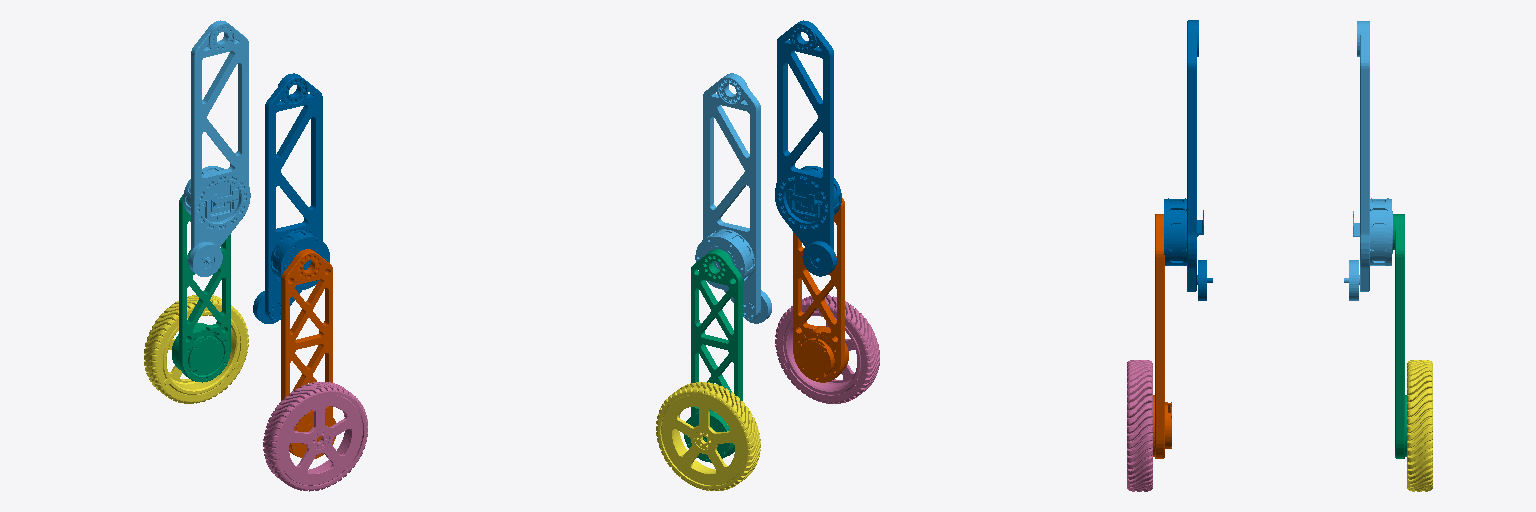
URDF robot description (000_WBR_urdf):
<?xml version="1.0" encoding="utf-8"?>
<!-- This URDF was automatically created by SolidWorks to URDF Exporter! Originally created by [author] ([email redacted]) 
     Commit Version: 1.6.0-4-g7f85cfe  Build Version: 1.6.7995.38578
     For more information, please see http://wiki.ros.org/sw_urdf_exporter -->
<robot
  name="000_WBR_urdf">
  <link
    name="base_link">
    <inertial>
      <origin
        xyz="0 0 0"
        rpy="0 0 0" />
      <mass
        value="3.6" />
      <inertia
        ixx="0.017282"
        ixy="1.567E-05"
        ixz="-0.00036424"
        iyy="0.013925"
        iyz="-1.76E-05"
        izz="0.018901" />
    </inertial>
    <visual>
      <origin
        xyz="0 0 0"
        rpy="0 0 0" />
      <geometry>
        <mesh
          filename="./meshes/base_link.STL" />
      </geometry>

    </visual>
    <collision>
      <origin
        xyz="0 0 0"
        rpy="0 0 0" />
      <geometry>
        <mesh
          filename="./meshes/base_link.STL" />
      </geometry>
    </collision>
  </link>
  <link
    name="TighL">
    <inertial>
      <origin
        xyz="0 0 0"
        rpy="0 0 0" />
      <mass
        value="0.877" />
      <inertia
        ixx="0.052137"
        ixy="0.00080537"
        ixz="-1.2154E-05"
        iyy="0.00079671"
        iyz="-0.0026655"
        izz="0.052395" />
    </inertial>
    <visual>
      <origin
        xyz="0 0 0"
        rpy="0 0 0" />
      <geometry>
        <mesh
          filename="./meshes/TighL.STL" />
      </geometry>
    </visual>
    <collision>
      <origin
        xyz="0 0 0"
        rpy="0 0 0" />
      <geometry>
        <mesh
          filename="./meshes/TighL.STL" />
      </geometry>
    </collision>
  </link>
  <joint
    name="HipL"
    type="revolute">
    <origin
      xyz="0 0.10326 -0.003"
      rpy="-1.5708 0 0" />
    <parent
      link="base_link" />
    <child
      link="TighL" />
    <axis
      xyz="0 0 1" />
    <limit
      lower="0"
      upper="3.14"
      effort="100"
      velocity="100" />
  </joint>
  <link
    name="ShankL">
    <inertial>
      <origin
        xyz="0 0 0"
        rpy="0 0 0" />
      <mass
        value="0.592" />
      <inertia
        ixx="0.028833"
        ixy="7.361E-06"
        ixz="2.98E-07"
        iyy="0.00033282"
        iyz="-0.00156"
        izz="0.028939" />
    </inertial>
    <visual>
      <origin
        xyz="0 0 0"
        rpy="0 0 0" />
      <geometry>
        <mesh
          filename="./meshes/ShankL.STL" />
      </geometry>
    </visual>
    <collision>
      <origin
        xyz="0 0 0"
        rpy="0 0 0" />
      <geometry>
        <mesh
          filename="./meshes/ShankL.STL" />
      </geometry>
    </collision>
  </link>
  <joint
    name="KneeL"
    type="revolute">
    <origin
      xyz="0 0.26 0.04376"
      rpy="0 0 0" />
    <parent
      link="TighL" />
    <child
      link="ShankL" />
    <axis
      xyz="0 0 1" />
    <limit
      lower="-3.14"
      upper="0"
      effort="100"
      velocity="100" />
  </joint>
  <link
    name="WheelL">
    <inertial>
      <origin
        xyz="0 0 0"
        rpy="0 0 0" />
      <mass
        value="0.543" />
      <inertia
        ixx="0.0011434"
        ixy="0"
        ixz="0"
        iyy="0.0011434"
        iyz="1E-09"
        izz="0.0021259" />
    </inertial>
    <visual>
      <origin
        xyz="0 0 0"
        rpy="0 0 0" />
      <geometry>
        <mesh
          filename="./meshes/WheelL.STL" />
      </geometry>
    </visual>
    <collision>
      <origin
        xyz="0 0 0"
        rpy="0 0 0" />
      <geometry>
        <mesh
          filename="./meshes/WheelL.STL" />
      </geometry>
    </collision>
  </link>
  <joint
    name="HubL"
    type="continuous">
    <origin
      xyz="0 0.26 0.03525"
      rpy="0 0 0" />
    <parent
      link="ShankL" />
    <child
      link="WheelL" />
    <axis
      xyz="0 0 1" />
    <limit
      effort="100"
      velocity="100" />
  </joint>
  <link
    name="TighR">
    <inertial>
      <origin
        xyz="0 0 0"
        rpy="0 0 0" />
      <mass
        value="0.877" />
      <inertia
        ixx="0.052137"
        ixy="-0.00082186"
        ixz="-1.291E-05"
        iyy="0.00079671"
        iyz="0.0026655"
        izz="0.052395" />
    </inertial>
    <visual>
      <origin
        xyz="0 0 0"
        rpy="0 0 0" />
      <geometry>
        <mesh
          filename="./meshes/TighR.STL" />
      </geometry>
    </visual>
    <collision>
      <origin
        xyz="0 0 0"
        rpy="0 0 0" />
      <geometry>
        <mesh
          filename="./meshes/TighR.STL" />
      </geometry>
    </collision>
  </link>
  <joint
    name="HipR"
    type="revolute">
    <origin
      xyz="0 -0.09926 -0.003"
      rpy="1.5708 0 0" />
    <parent
      link="base_link" />
    <child
      link="TighR" />
    <axis
      xyz="0 0 1" />
    <limit
      lower="-3.14"
      upper="0"
      effort="0"
      velocity="0" />
  </joint>
  <link
    name="ShankR">
    <inertial>
      <origin
        xyz="0 0 0"
        rpy="0 0 0" />
      <mass
        value="0.592" />
      <inertia
        ixx="0.028833"
        ixy="7.361E-06"
        ixz="-2.98E-07"
        iyy="0.00033282"
        iyz="0.00156"
        izz="0.028939" />
    </inertial>
    <visual>
      <origin
        xyz="0 0 0"
        rpy="0 0 0" />
      <geometry>
        <mesh
          filename="./meshes/ShankR.STL" />
      </geometry>
    </visual>
    <collision>
      <origin
        xyz="0 0 0"
        rpy="0 0 0" />
      <geometry>
        <mesh
          filename="./meshes/ShankR.STL" />
      </geometry>
    </collision>
  </link>
  <joint
    name="KneeR"
    type="revolute">
    <origin
      xyz="0 -0.26 0.04376"
      rpy="0 0 0" />
    <parent
      link="TighR" />
    <child
      link="ShankR" />
    <axis
      xyz="0 0 1" />
    <limit
      lower="0"
      upper="3.14"
      effort="0"
      velocity="0" />
  </joint>
  <link
    name="WheelR">
    <inertial>
      <origin
        xyz="0 0 0"
        rpy="0 0 0" />
      <mass
        value="0.543" />
      <inertia
        ixx="0.0011434"
        ixy="0"
        ixz="0"
        iyy="0.0011434"
        iyz="-1E-09"
        izz="0.0021259" />
    </inertial>
    <visual>
      <origin
        xyz="0 0 0"
        rpy="0 0 0" />
      <geometry>
        <mesh
          filename="./meshes/WheelR.STL" />
      </geometry>
    </visual>
    <collision>
      <origin
        xyz="0 0 0"
        rpy="0 0 0" />
      <geometry>
        <mesh
          filename="./meshes/WheelR.STL" />
      </geometry>
    </collision>
  </link>
  <joint
    name="HubR"
    type="continuous">
    <origin
      xyz="0 -0.26 0.03525"
      rpy="0 0 0" />
    <parent
      link="ShankR" />
    <child
      link="WheelR" />
    <axis
      xyz="0 0 1" />
    <limit
      effort="100"
      velocity="100" />
  </joint>
</robot>

--- Render facts (derived) ---
3 views of the same robot in one strip: view 1: azimuth 30°, elevation 25°; view 2: azimuth 150°, elevation 25°; view 3: azimuth 270°, elevation 25° (orthographic).
Model 000_WBR_urdf with 7 links and 6 joints (4 revolute, 2 continuous), rooted at base_link, posed every joint at zero.
Visible links, largest first — view 1: TighL, TighR, WheelR, ShankR, ShankL, WheelL; view 2: TighR, TighL, WheelL, ShankL, ShankR, WheelR; view 3: TighL, TighR, WheelR, WheelL, ShankR, ShankL.
Link boxes in pixels (left/top/right/bottom): TighL: left=183, top=20, right=250, bottom=276; TighR: left=253, top=73, right=329, bottom=323; WheelR: left=263, top=382, right=367, bottom=491; ShankR: left=281, top=249, right=335, bottom=458; ShankL: left=172, top=194, right=230, bottom=382; WheelL: left=144, top=295, right=248, bottom=403; TighR: left=775, top=20, right=841, bottom=276; TighL: left=695, top=73, right=771, bottom=323; WheelL: left=656, top=382, right=760, bottom=490; ShankL: left=684, top=249, right=742, bottom=462; ShankR: left=793, top=198, right=848, bottom=382; WheelR: left=775, top=295, right=879, bottom=403; TighL: left=1344, top=21, right=1392, bottom=300; TighR: left=1164, top=20, right=1212, bottom=300; WheelR: left=1127, top=360, right=1152, bottom=491; WheelL: left=1407, top=360, right=1432, bottom=491; ShankR: left=1153, top=214, right=1171, bottom=458; ShankL: left=1393, top=214, right=1406, bottom=458.
Bounding box of the posed robot: 0.16 × 0.373 × 0.622 m (x, y, z).
Meshes: 7 distinct files referenced, 6 mesh visuals loaded (6 binary STL); not drawn: 1 (reference not matched to a file when rendering).
